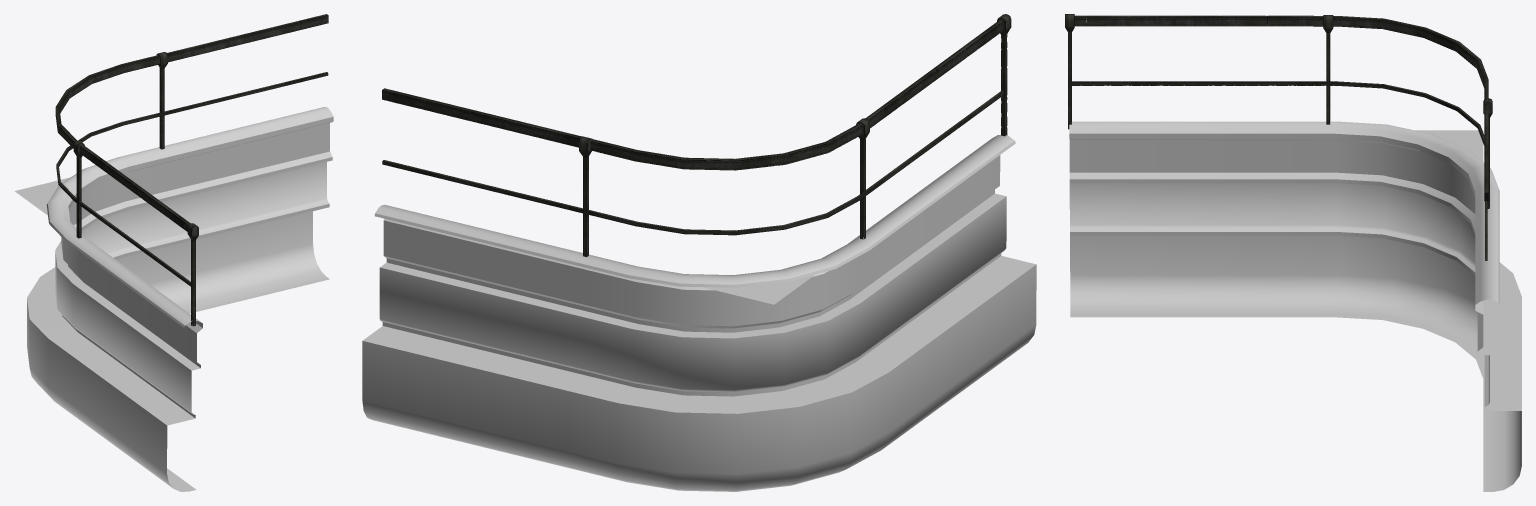
Rendered from engineroom_floor_lip_inner.dae.
3 views of the same model, side by side, from view 1: azimuth 30°, elevation 25°; view 2: azimuth 150°, elevation 25°; view 3: azimuth 270°, elevation 25° (orthographic). The views are drawn at different scales.
Parts seen in each view (by area): view 1: floor_lip_inner, floor_lip_inner_rail, floor_lip_inner_floor; view 2: floor_lip_inner, floor_lip_inner_rail, floor_lip_inner_floor; view 3: floor_lip_inner, floor_lip_inner_rail, floor_lip_inner_floor.
Boxes of the visible parts, x1,y1,x2,y2 form: floor_lip_inner: [27, 107, 333, 491]; floor_lip_inner_rail: [55, 14, 328, 326]; floor_lip_inner_floor: [14, 177, 69, 215]; floor_lip_inner: [362, 135, 1036, 491]; floor_lip_inner_rail: [382, 14, 1011, 256]; floor_lip_inner_floor: [702, 274, 815, 304]; floor_lip_inner: [1069, 121, 1521, 491]; floor_lip_inner_rail: [1065, 14, 1492, 260]; floor_lip_inner_floor: [1415, 130, 1483, 161].
Size of the model in its own units: 438 by 322 by 443.
